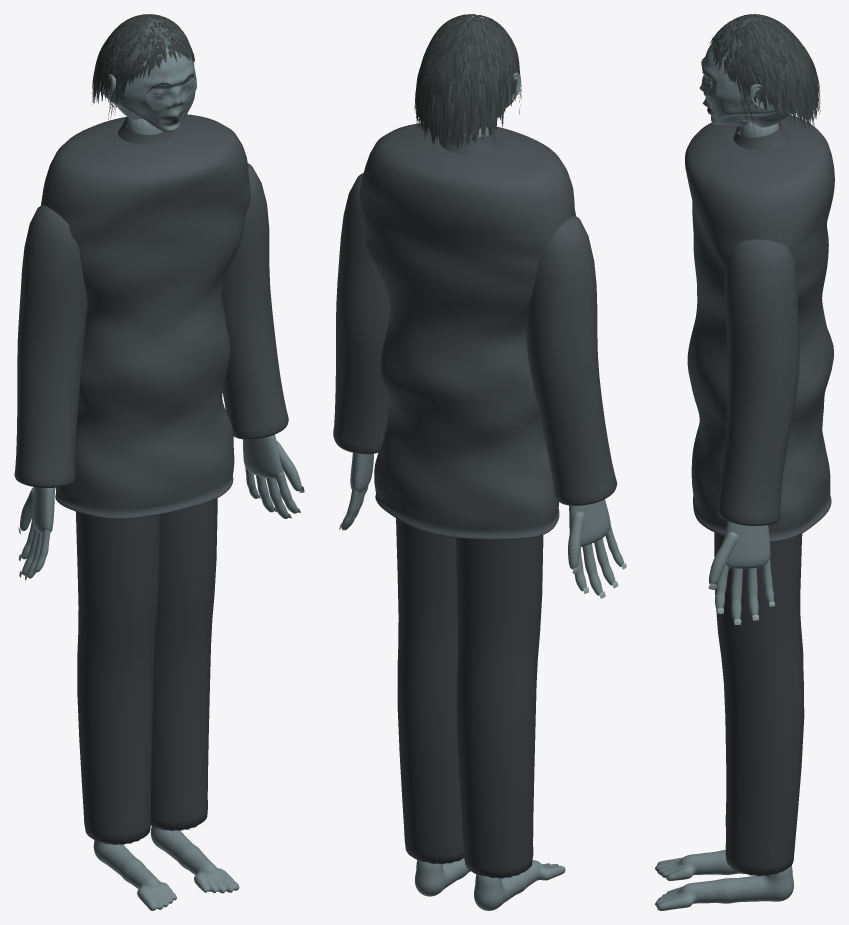
File: wetguest.glb
3 renders of one model, left to right at view 1: azimuth 30°, elevation 25°; view 2: azimuth 150°, elevation 25°; view 3: azimuth 270°, elevation 25°, orthographic. The views are drawn at different scales.
Parts seen in each view (by area): view 1: Torso, LegL, LegR, SleeveL, SleeveR, HairCards, Head, HandR, FootR, HandL, FootL, Collar; view 2: Torso, LegL, LegR, SleeveL, SleeveR, HairCards, HandL, FootL, FootR, HandR, Collar; view 3: Torso, LegR, SleeveR, HairCards, HandR, Head, FootR, FootL, Collar, Neck.
Part boxes in pixels (bbox=[...]): Torso: bbox=[41, 114, 250, 519]; LegL: bbox=[75, 511, 159, 844]; LegR: bbox=[150, 498, 217, 830]; SleeveL: bbox=[14, 205, 87, 487]; SleeveR: bbox=[222, 163, 288, 439]; HairCards: bbox=[91, 14, 195, 120]; Head: bbox=[100, 16, 196, 132]; HandR: bbox=[243, 434, 301, 518]; FootR: bbox=[150, 826, 239, 893]; HandL: bbox=[20, 487, 54, 578]; FootL: bbox=[93, 840, 176, 910]; Collar: bbox=[117, 117, 172, 144]; Torso: bbox=[359, 123, 575, 539]; LegL: bbox=[456, 535, 543, 878]; LegR: bbox=[396, 518, 464, 864]; SleeveL: bbox=[525, 215, 616, 505]; SleeveR: bbox=[333, 173, 390, 454]; HairCards: bbox=[414, 14, 521, 149]; HandL: bbox=[568, 499, 624, 595]; FootL: bbox=[474, 860, 565, 910]; FootR: bbox=[415, 858, 470, 896]; HandR: bbox=[341, 453, 373, 530]; Collar: bbox=[440, 129, 496, 154]; Torso: bbox=[685, 115, 834, 542]; LegR: bbox=[714, 532, 804, 876]; SleeveR: bbox=[717, 239, 799, 525]; HairCards: bbox=[709, 14, 820, 133]; HandR: bbox=[709, 521, 773, 620]; Head: bbox=[699, 17, 790, 127]; FootR: bbox=[655, 865, 793, 910]; FootL: bbox=[655, 850, 793, 881]; Collar: bbox=[733, 122, 788, 150]; Neck: bbox=[740, 122, 779, 137].
Bounding box in the file's own units: 0.5787 × 1.76 × 0.3291.
Materials: 14 (2 with a texture image).
